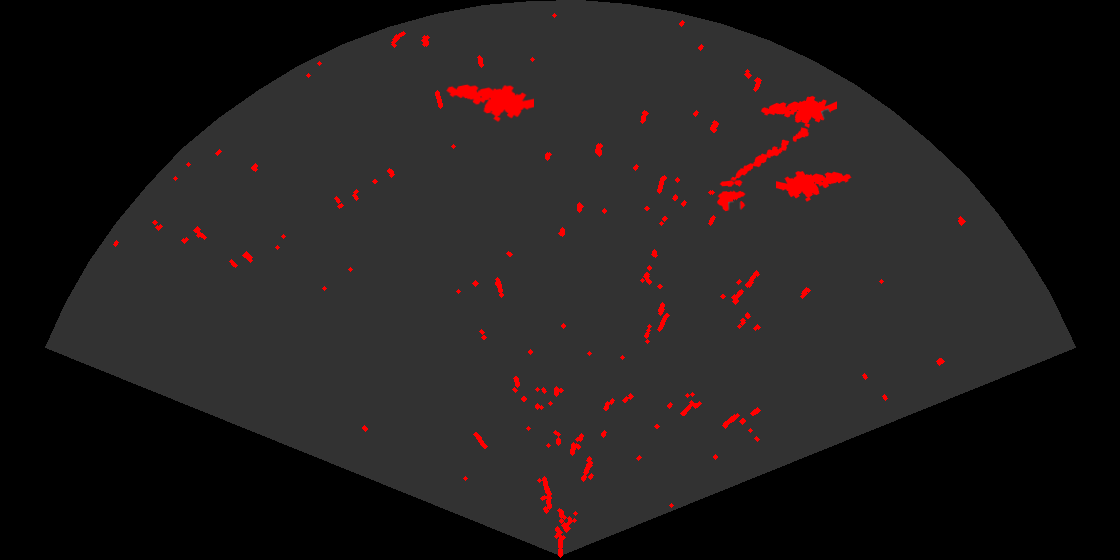ball: (716, 178, 747, 213)
chain: (726, 126, 811, 188)
frogman: (445, 83, 534, 124), (760, 94, 837, 130), (776, 169, 853, 203)
